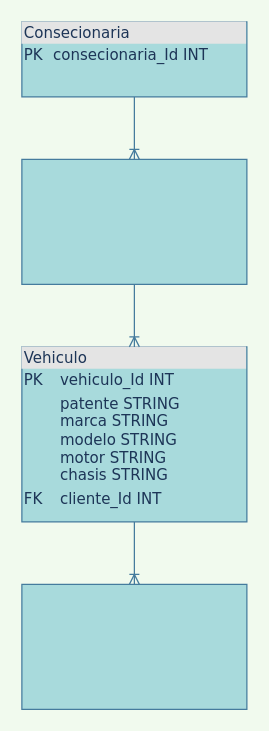
The diagram is 269 pixels wide and 731 high, and some of its shapes have lost their labels. The box of each missing label's shape, as (x1, y1, x2, y2) in pixels:
Cliente PK cliente_Id INT nombre STRING apellido STRING domicilio STRING: (21, 158, 247, 284)
Service PK service_Id INT fecha DATE monto MONEY FK vehiculo_Id INT: (21, 583, 247, 709)
